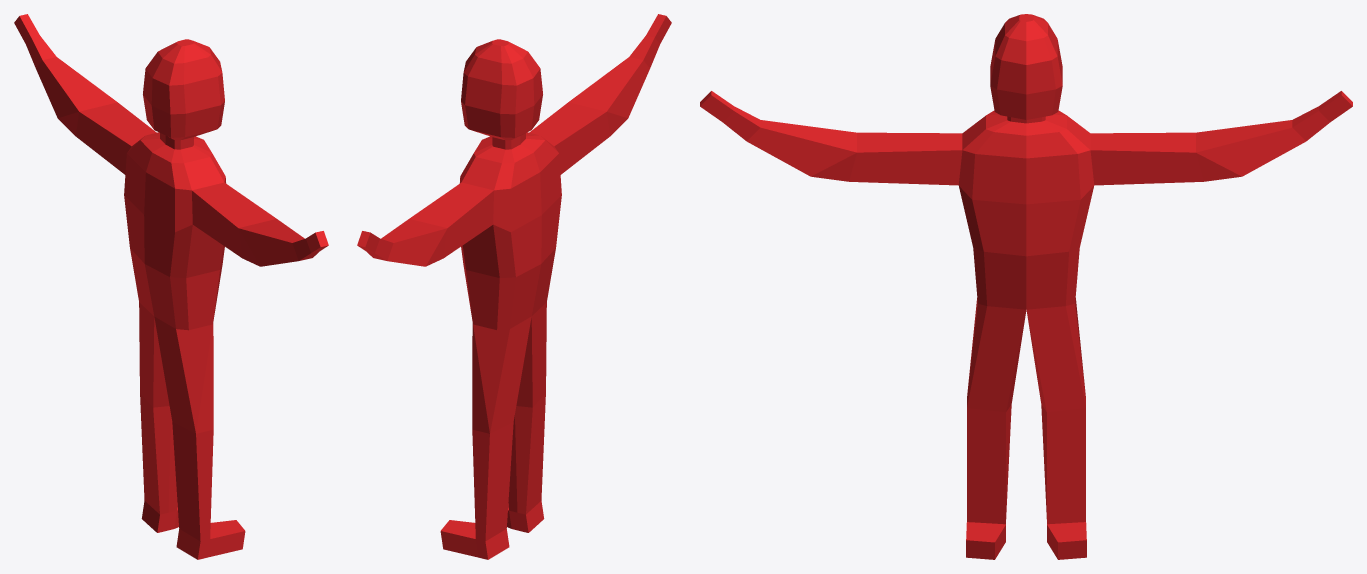
File: enemy.glb
3 renders of one model, left to right at view 1: azimuth 30°, elevation 25°; view 2: azimuth 150°, elevation 25°; view 3: azimuth 270°, elevation 25°, orthographic. The views are drawn at different scales.
Visible parts, largest first — view 1: Cube; view 2: Cube; view 3: Cube.
Part boxes in pixels (x1,y1,x2,y2): Cube: (14,14,328,559); Cube: (357,14,671,559); Cube: (700,14,1352,559).
Size of the model in its own units: 0.7759 by 4.72 by 5.32.
